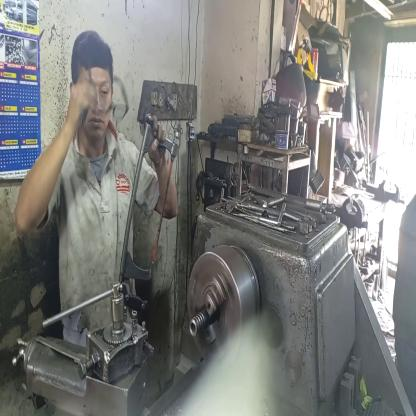lentes: (93, 73, 130, 133)
